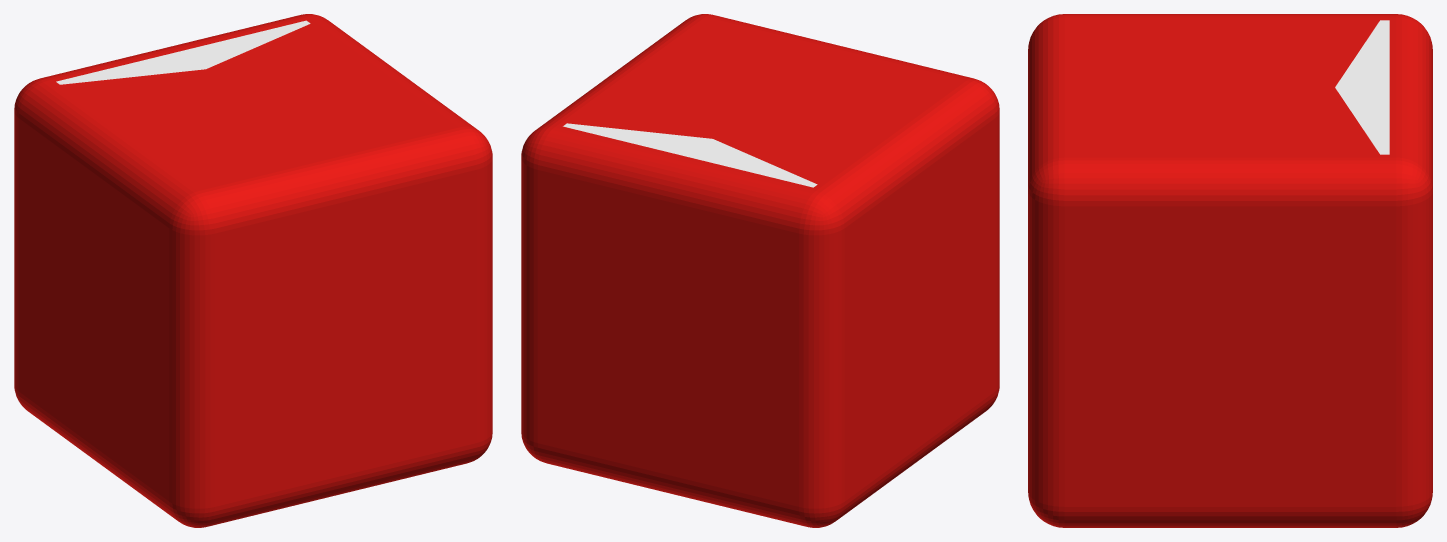
File: RedCube.fbx
3 views of the same model, side by side, from view 1: azimuth 30°, elevation 25°; view 2: azimuth 150°, elevation 25°; view 3: azimuth 270°, elevation 25° (orthographic). The views are drawn at different scales.
Visible parts, largest first — view 1: RedCube; view 2: RedCube; view 3: RedCube.
Part boxes in pixels (x1,y1,x2,y2): RedCube: [14, 14, 492, 527]; RedCube: [521, 14, 999, 527]; RedCube: [1028, 14, 1432, 527].
Bounding box in the file's own units: 200 × 200 × 200.
